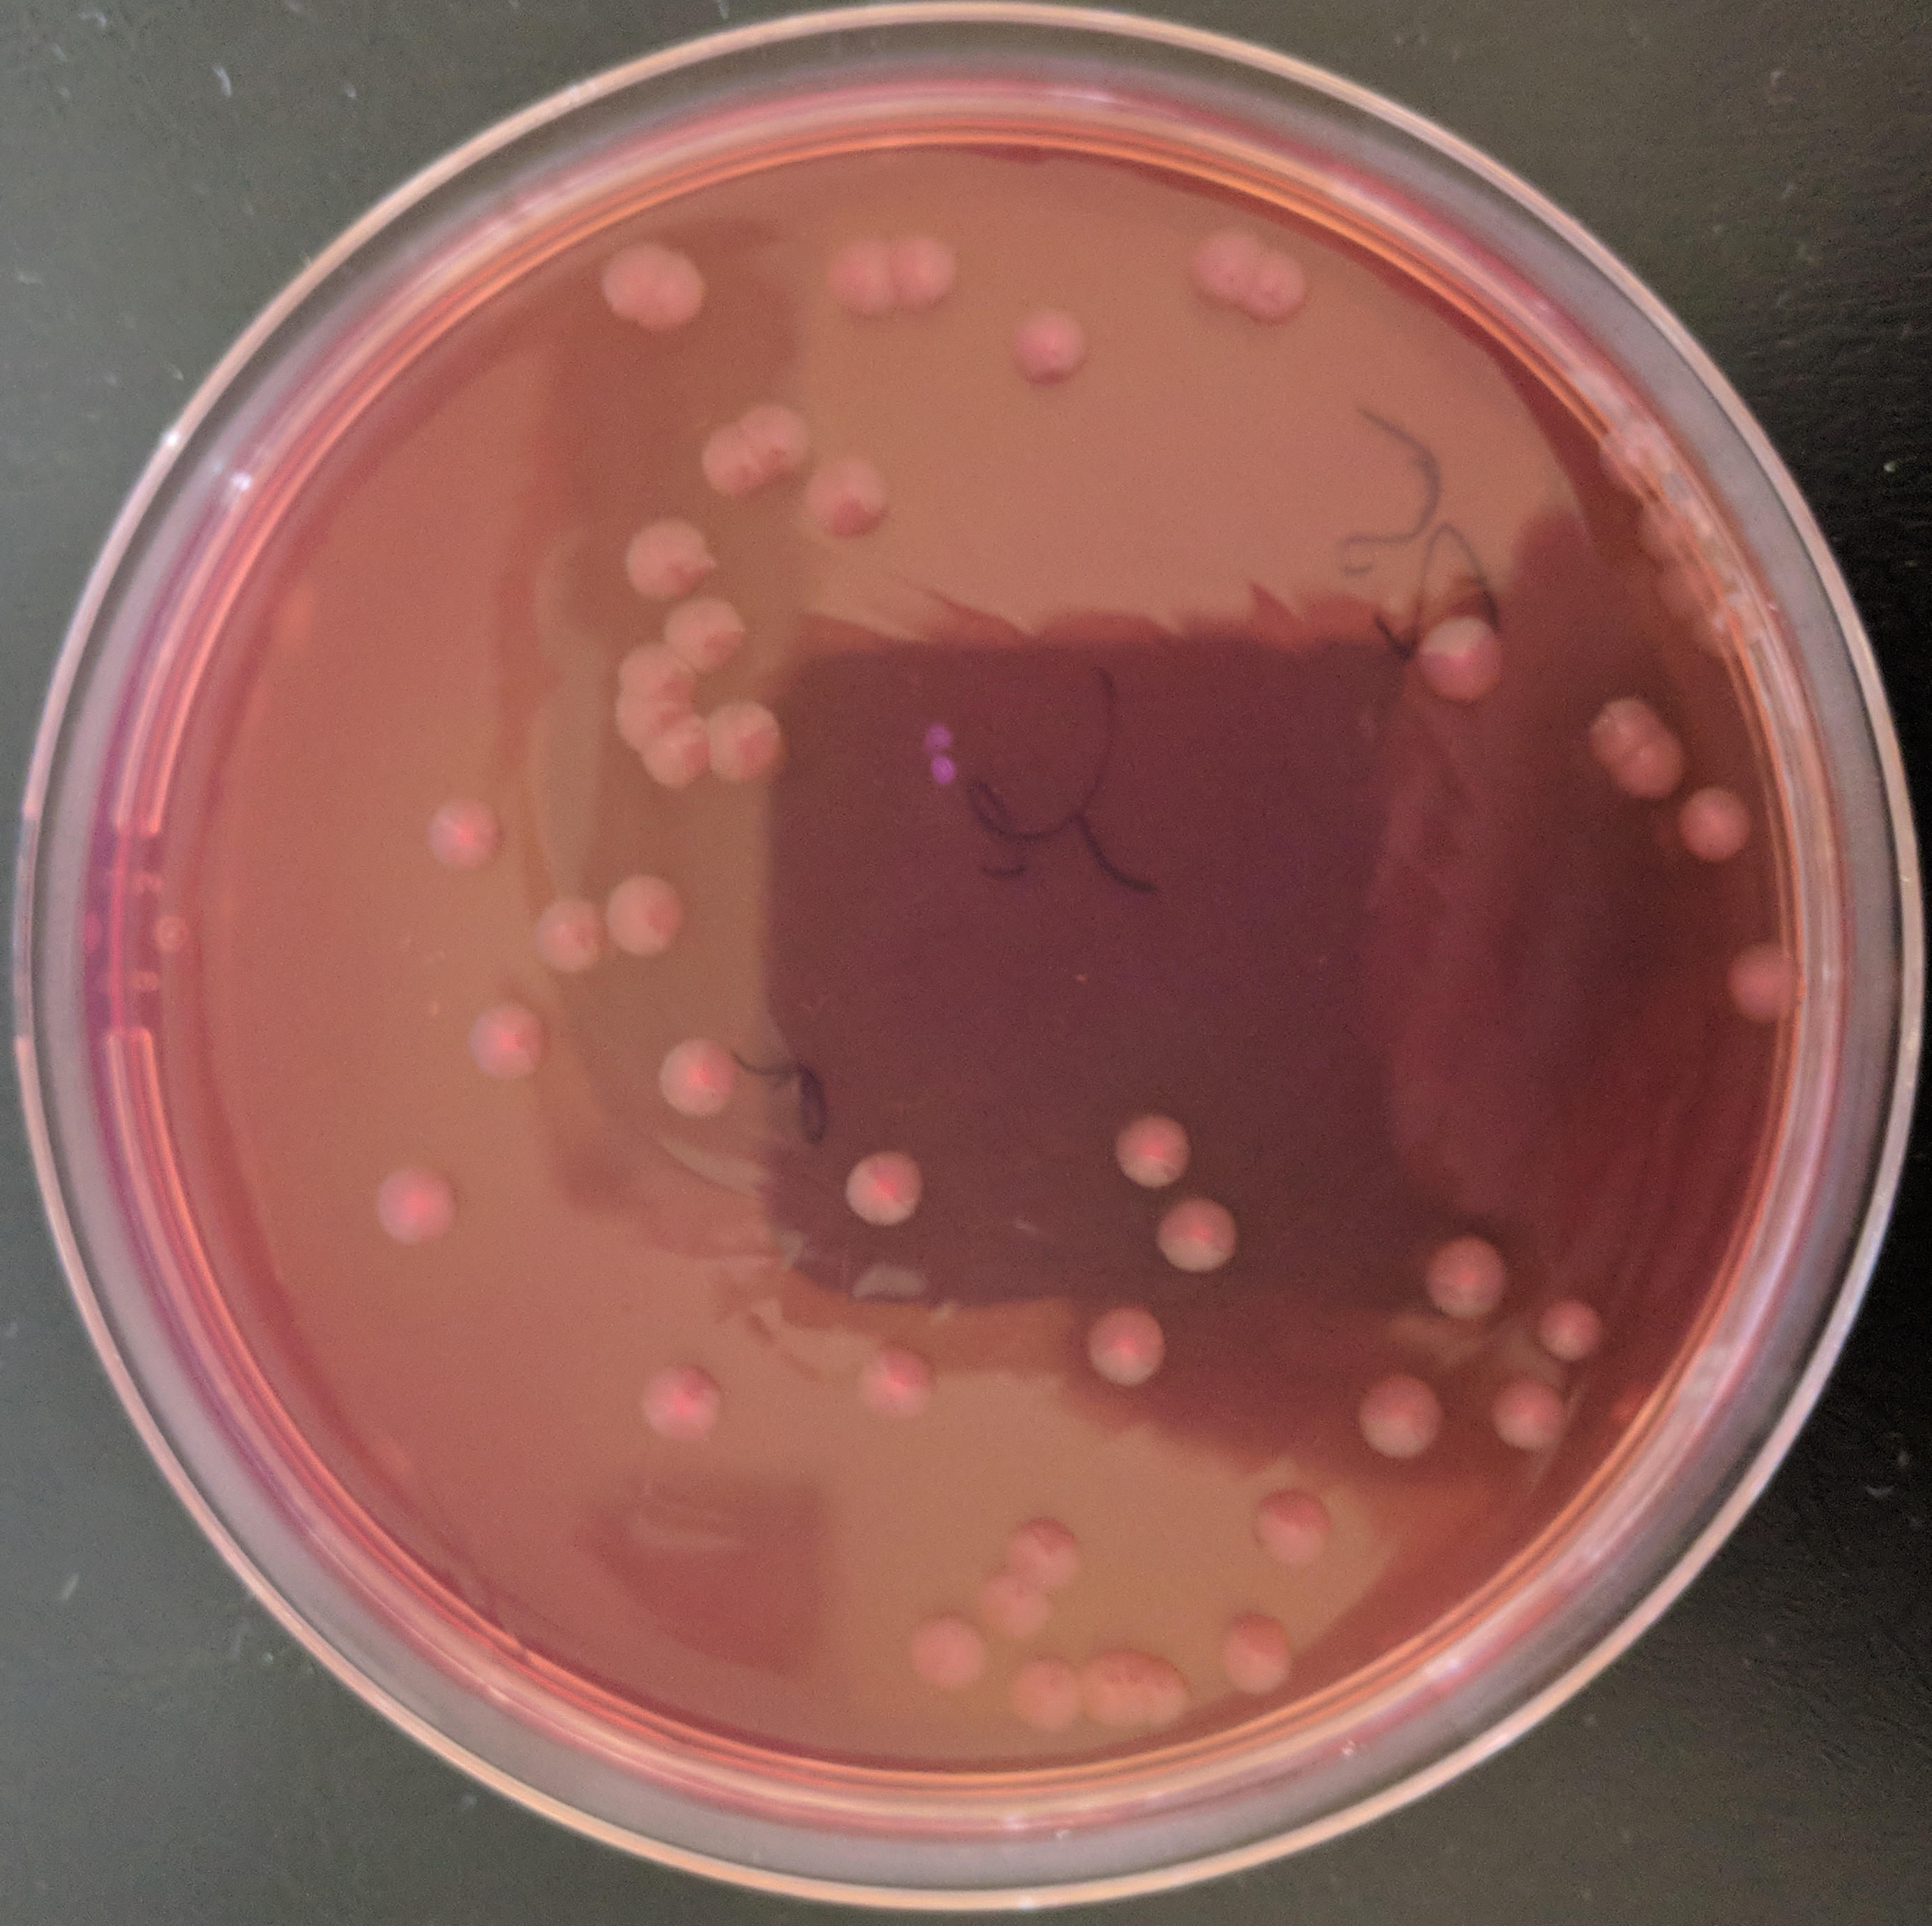sp17: (1343, 1358, 1460, 1467), (873, 1612, 1005, 1700), (1407, 1219, 1512, 1328), (608, 506, 721, 608), (361, 1157, 478, 1256), (999, 293, 1100, 402), (836, 1340, 952, 1434), (800, 448, 910, 547), (1100, 1104, 1215, 1198), (827, 1141, 940, 1231), (414, 788, 516, 885), (640, 1025, 746, 1118), (1236, 1474, 1341, 1568), (629, 1356, 737, 1448), (598, 864, 687, 974), (1074, 1296, 1170, 1395), (961, 1552, 1059, 1649), (1719, 931, 1816, 1028), (1417, 603, 1509, 705), (1183, 212, 1266, 325), (1588, 414, 1687, 508), (656, 584, 749, 679), (1675, 773, 1757, 878), (883, 224, 971, 323), (735, 397, 834, 483), (465, 995, 559, 1085), (1213, 1609, 1297, 1707), (1141, 1189, 1243, 1270), (1618, 483, 1719, 564), (707, 698, 791, 794), (1003, 1656, 1084, 1746), (524, 891, 613, 972), (996, 1515, 1089, 1593), (691, 423, 779, 504), (1486, 1374, 1572, 1455), (645, 707, 726, 792), (613, 635, 700, 714), (585, 235, 668, 316), (633, 247, 707, 335), (1676, 591, 1768, 661), (825, 231, 894, 325), (1611, 728, 1699, 801), (1523, 1296, 1618, 1362), (1103, 1635, 1160, 1744), (1241, 254, 1315, 330), (1583, 691, 1657, 767), (612, 683, 698, 744), (1652, 556, 1724, 624), (1084, 1642, 1130, 1732), (1149, 1651, 1200, 1730)
